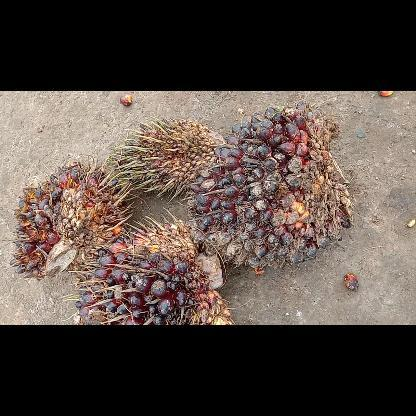Kurang masak: (191, 102, 350, 270), (76, 224, 232, 324)
TBS abnormal: (111, 119, 225, 196)
TBS masak: (14, 160, 128, 278)
